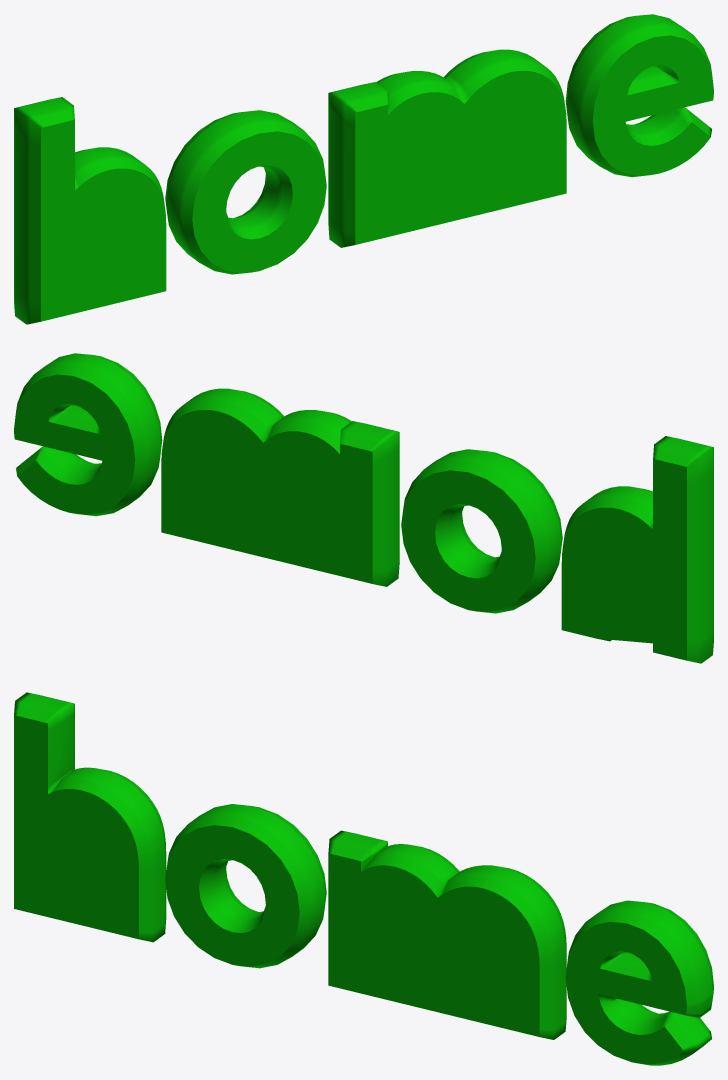
Rendered from home.fbx.
3 views of the same model, one above another, from view 1: azimuth 30°, elevation 25°; view 2: azimuth 150°, elevation 25°; view 3: azimuth 330°, elevation 25° (orthographic).
Parts seen in each view (by area): view 1: bevelPolygon3, bevelPolygon1, bevelPolygon2, bevelPolygon4; view 2: bevelPolygon3, bevelPolygon1, bevelPolygon2, bevelPolygon4; view 3: bevelPolygon3, bevelPolygon1, bevelPolygon2, bevelPolygon4.
Part boxes in pixels (left/top/right/bottom): bevelPolygon3: left=328, top=49, right=566, bottom=247; bevelPolygon1: left=14, top=97, right=166, bottom=324; bevelPolygon2: left=165, top=110, right=326, bottom=274; bevelPolygon4: left=565, top=14, right=713, bottom=177; bevelPolygon3: left=161, top=388, right=399, bottom=586; bevelPolygon1: left=561, top=436, right=713, bottom=663; bevelPolygon2: left=401, top=449, right=562, bottom=613; bevelPolygon4: left=14, top=353, right=162, bottom=516; bevelPolygon3: left=328, top=830, right=566, bottom=1039; bevelPolygon1: left=14, top=692, right=166, bottom=942; bevelPolygon2: left=165, top=804, right=326, bottom=968; bevelPolygon4: left=565, top=900, right=713, bottom=1065.
Bounding box in the file's own units: 10.26 × 3.01 × 0.7.
